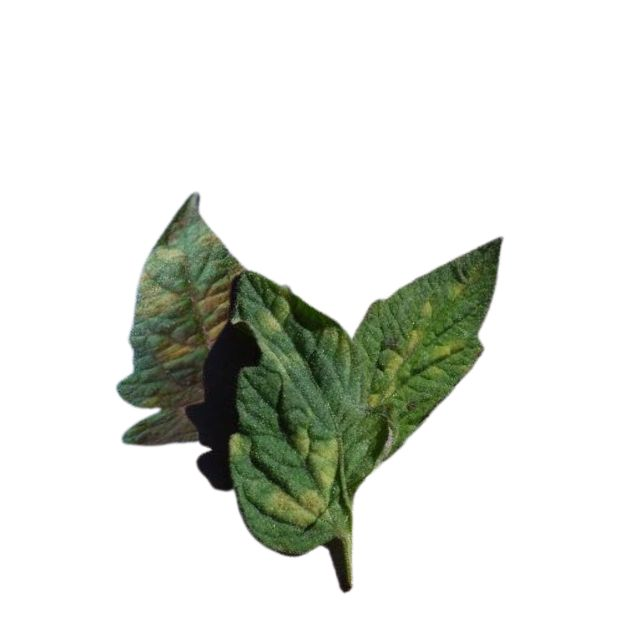Leaf_Mold: (131, 230, 245, 365), (365, 302, 463, 408), (270, 423, 339, 530), (250, 292, 292, 332), (225, 434, 249, 461)
